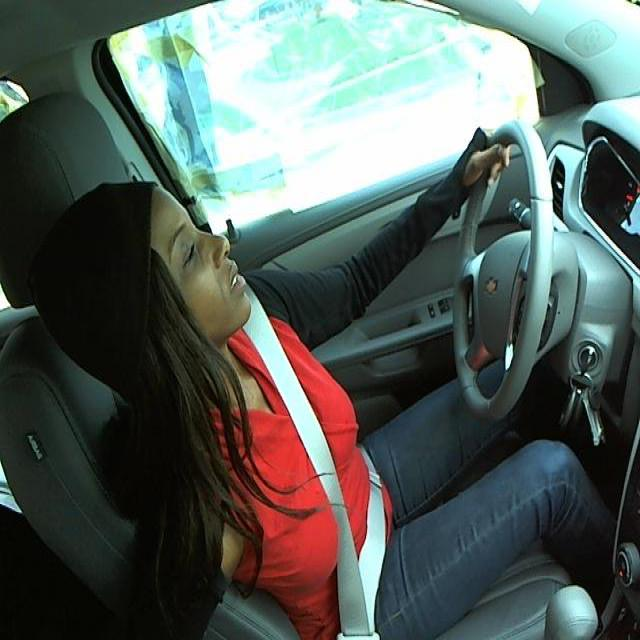seatbelt: (235, 314, 391, 618)
